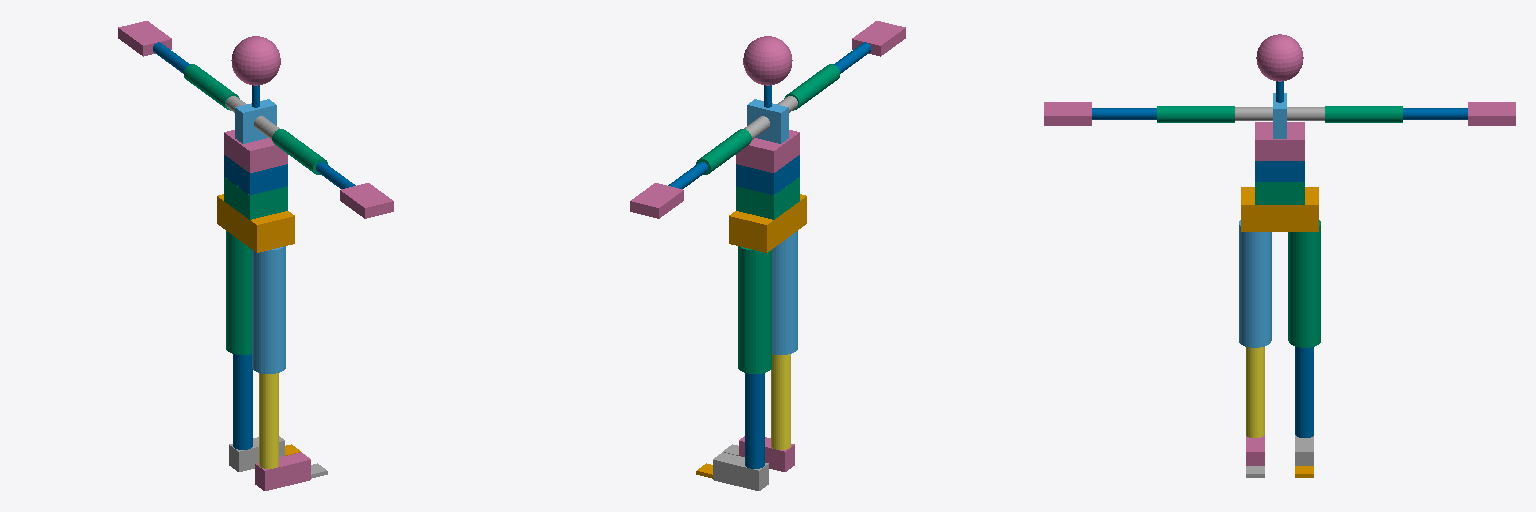
--- Render facts (derived) ---
The picture shows the robot from 3 angles, left to right: view 1: azimuth 30°, elevation 25°; view 2: azimuth 150°, elevation 25°; view 3: azimuth 270°, elevation 25°; orthographic projection.
Model XSensStyleModel_template with 49 links and 48 joints (48 revolute), rooted at Pelvis, posed every joint at zero.
Links seen in each view (by area): view 1: RightUpperLeg, LeftUpperLeg, Pelvis, Head, RightLowerLeg, LeftLowerLeg, T12, L5, RightFoot, L3, RightHand, T8 (+4 smaller); view 2: LeftUpperLeg, RightUpperLeg, Pelvis, Head, LeftLowerLeg, RightLowerLeg, T12, L5, LeftFoot, L3, LeftHand, T8 (+4 smaller); view 3: RightUpperLeg, LeftUpperLeg, Pelvis, Head, T12, RightLowerLeg, LeftLowerLeg, RightUpperArm, LeftUpperArm, RightHand, LeftHand, L5 (+8 smaller).
Link boxes in pixels (x1,y1,x2,y2): RightUpperLeg: (252, 246, 285, 373); LeftUpperLeg: (226, 231, 251, 354); Pelvis: (217, 194, 294, 252); Head: (231, 36, 280, 85); RightLowerLeg: (259, 373, 278, 468); LeftLowerLeg: (233, 354, 252, 449); T12: (224, 130, 287, 172); L5: (224, 177, 287, 219); RightFoot: (255, 452, 310, 490); L3: (224, 155, 287, 194); RightHand: (340, 183, 393, 218); T8: (235, 99, 276, 143); LeftUpperLeg: (738, 246, 771, 373); RightUpperLeg: (772, 231, 797, 354); Pelvis: (729, 194, 806, 252); Head: (743, 36, 792, 85); LeftLowerLeg: (745, 373, 764, 468); RightLowerLeg: (771, 354, 790, 449); T12: (736, 130, 799, 172); L5: (736, 177, 799, 219); LeftFoot: (713, 452, 768, 490); L3: (736, 155, 799, 194); LeftHand: (630, 183, 683, 218); T8: (747, 99, 788, 143); RightUpperLeg: (1239, 220, 1271, 347); LeftUpperLeg: (1288, 220, 1320, 347); Pelvis: (1241, 187, 1318, 231); Head: (1256, 34, 1303, 81); T12: (1255, 122, 1304, 160); RightLowerLeg: (1246, 347, 1264, 437); LeftLowerLeg: (1295, 347, 1313, 437); RightUpperArm: (1157, 106, 1234, 122); LeftUpperArm: (1325, 106, 1402, 122); RightHand: (1044, 102, 1091, 125); LeftHand: (1468, 102, 1515, 125); L5: (1255, 182, 1304, 204).
Bounding box of the posed robot: 0.2981 × 1.7 × 1.67 m (x, y, z).
Geometry: primitives only (box / cylinder / sphere), no mesh files.

URDF robot description (XSensStyleModel_template):
<!--URDF MODEL 48 DoFs-->

<robot name="XSensStyleModel_template">
<!--To open this model with Gazebo replace the null masses, inertias and dimensions of the 'fake links f1 and f2'-->
    <!--LINKS-->
	<!--Link base (1)-->
	<link name="Pelvis">
        <inertial>
            <mass value="4.416"/>
			<!--COM origin wrt pHipOrigin-->
            <origin xyz="0           0    0.054579" rpy="0 0 0" />
            <inertia ixx="0.032646" iyy="0.012663" izz="0.036997" ixy="0" ixz="0" iyz="0"/>
        </inertial>

        <visual>
			<!--box origin wrt pHipOrigin-->
            <origin xyz="0           0    0.054579" rpy="0 0 0" />
            <geometry>
                <box size="0.15204     0.27824     0.10627"/>
            </geometry>
        </visual>

        <collision>
			<!--box origin wrt pHipOrigin-->
            <origin xyz="0           0    0.054579" rpy="0 0 0" />
            <geometry>
                <box size="0.15204     0.27824     0.10627"/>
            </geometry>
        </collision>

    </link>
    <!--Chain from (2) to (7)-->
	<link name="L5_f1">
        <inertial>
            <mass value="0"/>
            <origin xyz="0 0 0" rpy="0 0 0" />
            <inertia ixx="0" iyy="0" izz="0" ixy="0" ixz="0" iyz="0"/>
        </inertial>
    </link>
	<link name="L5">
        <inertial>
            <mass value="5.6304"/>
			<!--COM origin wrt jL5S1-->
            <origin xyz="0           0    0.046545" rpy="0 0 0" />
            <inertia ixx="0.019207" iyy="0.014912" izz="0.025988" ixy="0" ixz="0" iyz="0"/>
        </inertial>

        <visual>
			<!--box origin origin wrt jL5S1-->
            <origin xyz="0           0    0.046545" rpy="0 0 0" />
            <geometry>
                <box size="0.15204     0.17964     0.09309"/>
            </geometry>
        </visual>

        <collision>
			<!--box origin origin wrt jL5S1-->
            <origin xyz="0           0    0.046545" rpy="0 0 0" />
            <geometry>
                <box size="0.15204     0.17964     0.09309"/>
            </geometry>
        </collision>
    </link>
	<link name="L3_f1">
        <inertial>
            <mass value="0"/>
            <origin xyz="0 0 0" rpy="0 0 0" />
            <inertia ixx="0" iyy="0" izz="0" ixy="0" ixz="0" iyz="0"/>
        </inertial>
    </link>
	<link name="L3">
        <inertial>
            <mass value="5.6304"/>
			<!--COM origin wrt jL4L3-->
            <origin xyz="0           0    0.042046" rpy="0 0 0" />
            <inertia ixx="0.018459" iyy="0.014164" izz="0.025988" ixy="0" ixz="0" iyz="0"/>
        </inertial>

        <visual>
			<!--box origin origin wrt jL4L3-->
            <origin xyz="0           0    0.042046" rpy="0 0 0" />
            <geometry>
                <box size="0.15204     0.17964    0.084092"/>
            </geometry>
        </visual>

        <collision>
			<!--box origin origin wrt jL4L3-->
            <origin xyz="0           0    0.042046" rpy="0 0 0" />
            <geometry>
                <box size="0.15204     0.17964    0.084092"/>
            </geometry>
        </collision>
    </link>
	<link name="T12_f1">
        <inertial>
            <mass value="0"/>
            <origin xyz="0 0 0" rpy="0 0 0" />
            <inertia ixx="0" iyy="0" izz="0" ixy="0" ixz="0" iyz="0"/>
        </inertial>
    </link>
	<link name="T12">
        <inertial>
            <mass value="5.6304"/>
			<!--COM origin wrt jL1T12-->
            <origin xyz="0           0    0.042046" rpy="0 0 0" />
            <inertia ixx="0.018459" iyy="0.014164" izz="0.025988" ixy="0" ixz="0" iyz="0"/>
        </inertial>

        <visual>
			<!--box origin origin wrt jL1T12-->
            <origin xyz="0           0    0.042046" rpy="0 0 0" />
            <geometry>
                <box size="0.15204     0.17964    0.084092"/>
            </geometry>
        </visual>

        <collision>
			<!--box origin origin wrt jL1T12-->
            <origin xyz="0           0    0.042046" rpy="0 0 0" />
            <geometry>
                <box size="0.15204     0.17964    0.084092"/>
            </geometry>
        </collision>
    </link>
	<link name="T8_f1">
        <inertial>
            <mass value="0"/>
            <origin xyz="0 0 0" rpy="0 0 0" />
            <inertia ixx="0" iyy="0" izz="0" ixy="0" ixz="0" iyz="0"/>
        </inertial>
    </link>
	<link name="T8_f2">
        <inertial>
            <mass value="0"/>
            <origin xyz="0 0 0" rpy="0 0 0" />
            <inertia ixx="0" iyy="0" izz="0" ixy="0" ixz="0" iyz="0"/>
        </inertial>
    </link>
	<link name="T8">
        <inertial>
            <mass value="2.208"/>
			<!--COM origin wrt jT9T8-->
            <origin xyz="0           0    0.059077" rpy="0 0 0" />
            <inertia ixx="0.0031087" iyy="0.0059088" izz="0.00388" ixy="0" ixz="0" iyz="0"/>
        </inertial>

        <visual>
			<!--box origin wrt jT9T8-->
            <origin xyz="0           0    0.059077" rpy="0 0 0" />
            <geometry>
                <box size="0.13473    0.054172     0.11815"/>
            </geometry>
        </visual>

        <collision>
			<!--box origin wrt jT9T8-->
            <origin xyz="0           0    0.059077" rpy="0 0 0" />
            <geometry>
                <box size="0.13473    0.054172     0.11815"/>
            </geometry>
        </collision>

    </link>
	<link name="Neck_f1">
        <inertial>
            <mass value="0"/>
            <origin xyz="0 0 0" rpy="0 0 0" />
            <inertia ixx="0" iyy="0" izz="0" ixy="0" ixz="0" iyz="0"/>
        </inertial>
    </link>
	<link name="Neck_f2">
        <inertial>
            <mass value="0"/>
            <origin xyz="0 0 0" rpy="0 0 0" />
            <inertia ixx="0" iyy="0" izz="0" ixy="0" ixz="0" iyz="0"/>
        </inertial>
    </link>
	<link name="Neck">
        <inertial>
            <mass value="0.6624"/>
			<!--COM origin wrt jT1C7-->
            <origin xyz="0           0    0.043276" rpy="0 0 0" />
            <inertia ixx="0.00054354" iyy="0.00054354" izz="0.00026007" ixy="0" ixz="0" iyz="0"/>
        </inertial>

        <visual>
			<!--box origin wrt jT1C7-->
            <origin xyz="0           0    0.043276" rpy="0 0 0" />
            <geometry>
		<cylinder length="0.086551" radius="0.014011"/>
            </geometry>
        </visual>

        <collision>
			<!--box origin wrt jT1C7-->
            <origin xyz="0           0    0.043276" rpy="0 0 0" />
            <geometry>
                <cylinder length="0.086551" radius="0.014011"/>
            </geometry>
        </collision>
    </link>
	<link name="Head_f1">
        <inertial>
            <mass value="0"/>
            <origin xyz="0 0 0" rpy="0 0 0" />
            <inertia ixx="0" iyy="0" izz="0" ixy="0" ixz="0" iyz="0"/>
        </inertial>
    </link>
	<link name="Head">
        <inertial>
            <mass value="1.9872"/>
			<!--COM origin wrt jC1Head-->
            <origin xyz="0           0    0.085351" rpy="0 0 0" />
            <inertia ixx="0.0057906" iyy="0.0057906" izz="0.0057906" ixy="0" ixz="0" iyz="0"/>
        </inertial>

        <visual>
			<!--boc origin wrt jC1Head-->
            <origin xyz="0           0    0.085351" rpy="0 0 0" />
            <geometry>
                <sphere radius="0.085351"/>
            </geometry>
        </visual>

        <collision>
			<!--box origin wrt jC1Head-->
            <origin xyz="0           0    0.085351" rpy="0 0 0" />
            <geometry>
                <sphere radius="0.085351"/>
            </geometry>
        </collision>

    </link>
	<!--Chain from (8) to (11)-->
	<link name="RightShoulder">
        <inertial>
            <mass value="1.7112"/>
			<!--COM origin wrt jRightC7Shoulder-->
            <origin xyz="0   -0.068449           0" rpy="0 0 0" />
            <inertia ixx="0.0029297" iyy="0.00051445" izz="0.0029297" ixy="0" ixz="0" iyz="0"/>
        </inertial>

        <visual>
			<!--box origin wrt jRightC7Shoulder. RPY rotated of pi/2.-->
            <origin xyz="0   -0.068449           0" rpy="1.5708 0 0" />
            <geometry>
                <cylinder length="0.1369" radius="0.024521"/>
            </geometry>
        </visual>

        <collision>
			<!--box origin wrt jRightC7Shoulder. RPY rotated of pi/2.-->
            <origin xyz="0   -0.068449           0" rpy="1.5708 0 0" />
            <geometry>
                <cylinder length="0.1369" radius="0.024521"/>
            </geometry>
        </collision>

    </link>
	<link name="RightUpperArm_f1">
        <inertial>
            <mass value="0"/>
            <origin xyz="0 0 0" rpy="0 0 0" />
            <inertia ixx="0" iyy="0" izz="0" ixy="0" ixz="0" iyz="0"/>
        </inertial>
    </link>
	<link name="RightUpperArm_f2">
        <inertial>
            <mass value="0"/>
            <origin xyz="0 0 0" rpy="0 0 0" />
            <inertia ixx="0" iyy="0" izz="0" ixy="0" ixz="0" iyz="0"/>
        </inertial>
    </link>
    <link name="RightUpperArm">
        <inertial>
            <mass value="1.656"/>
			<!--COM origin wrt jRightShoulder-->
            <origin xyz="0    -0.14097           0" rpy="0 0 0" />
            <inertia ixx="0.011359" iyy="0.00077855" izz="0.011359" ixy="0" ixz="0" iyz="0"/>
        </inertial>

        <visual>
			<!--box origin wrt jRightShoulder. RPY rotated of pi/2.-->
            <origin xyz="0    -0.14097           0" rpy="1.5708 0 0" />
            <geometry>
                <cylinder length="0.28194" radius="0.030664"/>
            </geometry>
        </visual>

        <collision>
			<!--box origin wrt jRightShoulder. RPY rotated of pi/2.-->
            <origin xyz="0    -0.14097           0" rpy="1.5708 0 0" />
            <geometry>
                <cylinder length="0.28194" radius="0.030664"/>
            </geometry>
        </collision>

    </link>
	<link name="RightForeArm_f1">
        <inertial>
            <mass value="0"/>
            <origin xyz="0 0 0" rpy="0 0 0" />
            <inertia ixx="0" iyy="0" izz="0" ixy="0" ixz="0" iyz="0"/>
        </inertial>
    </link>
	<link name="RightForeArm">
        <inertial>
            <mass value="1.104"/>
			<!--COM origin wrt jRightElbow-->
            <origin xyz="0    -0.11576           0" rpy="0 0 0" />
            <inertia ixx="0.0050467" iyy="0.00023068" izz="0.0050467" ixy="0" ixz="0" iyz="0"/>
        </inertial>

        <visual>
			<!--box origin wrt jRightElbow. RPY rotated of pi/2.-->
            <origin xyz="0    -0.11576           0" rpy="1.5708 0 0" />
            <geometry>
                <cylinder length="0.23152" radius="0.020443"/>
            </geometry>
        </visual>

        <collision>
			<!--box origin wrt jRightElbow. RPY rotated of pi/2.-->
            <origin xyz="0    -0.11576           0" rpy="1.5708 0 0" />
            <geometry>
                <cylinder length="0.23152" radius="0.020443"/>
            </geometry>
        </collision>

    </link>
	<link name="RightHand_f1">
        <inertial>
            <mass value="0"/>
            <origin xyz="0 0 0" rpy="0 0 0" />
            <inertia ixx="0" iyy="0" izz="0" ixy="0" ixz="0" iyz="0"/>
        </inertial>
    </link>
	<link name="RightHand">
        <inertial>
            <mass value="0.3312"/>
			<!--COM origin wrt jRightWrist-->
            <origin xyz="0   -0.086727           0" rpy="0 0 0" />
            <inertia ixx="0.00087653" iyy="0.0004152" izz="0.0011995" ixy="0" ixz="0" iyz="0"/>
        </inertial>

        <visual>
			<!--box origin wrt jRightWrist-->
            <origin xyz="0   -0.086727           0" rpy="0 0 0" />
            <geometry>
                <box size="0.11564     0.17345    0.040885"/>
            </geometry>
        </visual>

        <collision>
			<!--box origin wrt jRightWrist-->
            <origin xyz="0   -0.086727           0" rpy="0 0 0" />
            <geometry>
                <box size="0.11564     0.17345    0.040885"/>
            </geometry>
        </collision>

    </link>
	<!--Chain from (12) to (15)-->
	<link name="LeftShoulder">
        <inertial>
            <mass value="1.7112"/>
			<!--COM origin wrt jLeftC7Shoulder-->
            <origin xyz="0    0.068449           0" rpy="0 0 0" />
            <inertia ixx="0.0029297" iyy="0.00051445" izz="0.0029297" ixy="0" ixz="0" iyz="0"/>
        </inertial>

        <visual>
			<!--box origin wrt jLeftC7Shoulder. RPY rotated of pi/2.-->
            <origin xyz="0    0.068449           0" rpy="1.5708 0 0" />
            <geometry>
                <cylinder length="0.1369" radius="0.024521"/>
            </geometry>
        </visual>

        <collision>
			<!--box origin wrt jLeftC7Shoulder. RPY rotated of pi/2.-->
            <origin xyz="0    0.068449           0" rpy="1.5708 0 0" />
            <geometry>
                <cylinder length="0.1369" radius="0.024521"/>
            </geometry>
        </collision>

    </link>
	<link name="LeftUpperArm_f1">
        <inertial>
            <mass value="0"/>
            <origin xyz="0 0 0" rpy="0 0 0" />
            <inertia ixx="0" iyy="0" izz="0" ixy="0" ixz="0" iyz="0"/>
        </inertial>
    </link>
	<link name="LeftUpperArm_f2">
        <inertial>
            <mass value="0"/>
            <origin xyz="0 0 0" rpy="0 0 0" />
            <inertia ixx="0" iyy="0" izz="0" ixy="0" ixz="0" iyz="0"/>
        </inertial>
    </link>
	<link name="LeftUpperArm">
        <inertial>
            <mass value="1.656"/>
			<!--COM origin wrt jLeftShoulder-->
            <origin xyz="0     0.14097           0" rpy="0 0 0" />
            <inertia ixx="0.011359" iyy="0.00077855" izz="0.011359" ixy="0" ixz="0" iyz="0"/>
        </inertial>

        <visual>
			<!--box origin wrt jLeftShoulder. RPY rotated of pi/2.-->
            <origin xyz="0     0.14097           0" rpy="1.5708 0 0" />
            <geometry>
                <cylinder length="0.28194" radius="0.030664"/>
            </geometry>
        </visual>

        <collision>
			<!--box origin wrt jLeftShoulder. RPY rotated of pi/2.-->
            <origin xyz="0     0.14097           0" rpy="1.5708 0 0" />
            <geometry>
                <cylinder length="0.28194" radius="0.030664"/>
            </geometry>
        </collision>

    </link>
	<link name="LeftForeArm_f1">
        <inertial>
            <mass value="0"/>
            <origin xyz="0 0 0" rpy="0 0 0" />
            <inertia ixx="0" iyy="0" izz="0" ixy="0" ixz="0" iyz="0"/>
        </inertial>
    </link>
	<link name="LeftForeArm">
        <inertial>
            <mass value="1.104"/>
			<!--COM origin wrt jLeftElbow-->
            <origin xyz="0     0.11576           0" rpy="0 0 0" />
            <inertia ixx="0.0050467" iyy="0.00023068" izz="0.0050467" ixy="0" ixz="0" iyz="0"/>
        </inertial>

        <visual>
			<!--box origin wrt jLeftElbow. RPY rotated of pi/2.-->
            <origin xyz="0     0.11576           0" rpy="1.5708 0 0" />
            <geometry>
                <cylinder length="0.23152" radius="0.020443"/>
            </geometry>
        </visual>

        <collision>
			<!--box origin wrt jLeftElbow. RPY rotated of pi/2.-->
            <origin xyz="0     0.11576           0" rpy="1.5708 0 0" />
            <geometry>
                <cylinder length="0.23152" radius="0.020443"/>
            </geometry>
        </collision>

    </link>
	<link name="LeftHand_f1">
        <inertial>
            <mass value="0"/>
            <origin xyz="0 0 0" rpy="0 0 0" />
            <inertia ixx="0" iyy="0" izz="0" ixy="0" ixz="0" iyz="0"/>
        </inertial>
    </link>
	<link name="LeftHand">
        <inertial>
            <mass value="0.3312"/>
			<!--COM origin wrt jLeftWrist-->
            <origin xyz="0    0.086727           0" rpy="0 0 0" />
            <inertia ixx="0.00087653" iyy="0.0004152" izz="0.0011995" ixy="0" ixz="0" iyz="0"/>
        </inertial>

        <visual>
			<!--COM origin wrt jLeftWrist-->
            <origin xyz="0    0.086727           0" rpy="0 0 0" />
            <geometry>
                <box size="0.11564     0.17345    0.040885"/>
            </geometry>
        </visual>

        <collision>
			<!--COM origin wrt jLeftWrist-->
            <origin xyz="0    0.086727           0" rpy="0 0 0" />
            <geometry>
                <box size="0.11564     0.17345    0.040885"/>
            </geometry>
        </collision>

    </link>
	<!--Chain from (16) to (19)-->
	<link name="RightUpperLeg_f1">
        <inertial>
            <mass value="0"/>
            <origin xyz="0 0 0" rpy="0 0 0" />
            <inertia ixx="0" iyy="0" izz="0" ixy="0" ixz="0" iyz="0"/>
        </inertial>
    </link>
	<link name="RightUpperLeg_f2">
        <inertial>
            <mass value="0"/>
            <origin xyz="0 0 0" rpy="0 0 0" />
            <inertia ixx="0" iyy="0" izz="0" ixy="0" ixz="0" iyz="0"/>
        </inertial>
    </link>
    <link name="RightUpperLeg">
        <inertial>
            <mass value="6.9"/>
			<!--COM origin wrt jRightHip-->
            <origin xyz="0           0    -0.23539" rpy="0 0 0" />
            <inertia ixx="0.13349" iyy="0.13349" izz="0.012102" ixy="0" ixz="0" iyz="0"/>
        </inertial>

        <visual>
			<!--box origin wrt jRightHip-->
            <origin xyz="0           0    -0.23539" rpy="0 0 0" />
            <geometry>
                <cylinder length="0.47078" radius="0.059228"/>
            </geometry>
        </visual>

        <collision>
			<!--box origin wrt jRightHip-->
            <origin xyz="0           0    -0.23539" rpy="0 0 0" />
            <geometry>
                <cylinder length="0.47078" radius="0.059228"/>
            </geometry>
        </collision>

    </link>
	<link name="RightLowerLeg_f1">
        <inertial>
            <mass value="0"/>
            <origin xyz="0 0 0" rpy="0 0 0" />
            <inertia ixx="0" iyy="0" izz="0" ixy="0" ixz="0" iyz="0"/>
        </inertial>
    </link>
    <link name="RightLowerLeg">
        <inertial>
            <mass value="2.0148"/>
			<!--COM origin wrt jRightKnee-->
            <origin xyz="0           0    -0.18629" rpy="0 0 0" />
            <inertia ixx="0.023906" iyy="0.023906" izz="0.0012007" ixy="0" ixz="0" iyz="0"/>
        </inertial>

        <visual>
			<!--box origin wrt jRightKnee-->
            <origin xyz="0           0    -0.18629" rpy="0 0 0" />
            <geometry>
                <cylinder length="0.37257" radius="0.034524"/>
            </geometry>
        </visual>

        <collision>
			<!--box origin wrt jRightKnee-->
            <origin xyz="0           0    -0.18629" rpy="0 0 0" />
            <geometry>
                <cylinder length="0.37257" radius="0.034524"/>
            </geometry>
        </collision>

    </link>
	<link name="RightFoot_f1">
        <inertial>
            <mass value="0"/>
            <origin xyz="0 0 0" rpy="0 0 0" />
            <inertia ixx="0" iyy="0" izz="0" ixy="0" ixz="0" iyz="0"/>
        </inertial>
    </link>
	<link name="RightFoot_f2">
        <inertial>
            <mass value="0"/>
            <origin xyz="0 0 0" rpy="0 0 0" />
            <inertia ixx="0" iyy="0" izz="0" ixy="0" ixz="0" iyz="0"/>
        </inertial>
    </link>
    <link name="RightFoot">
        <inertial>
            <mass value="0.7176"/>
			<!--COM origin wrt jRightAnkle-->
            <origin xyz="0.055949           0   -0.039369" rpy="0 0 0" />
            <inertia ixx="0.00065584" iyy="0.0024234" izz="0.0023377" ixy="0" ixz="0" iyz="0"/>
        </inertial>

        <visual>
			<!--box origin wrt jRightAnkle-->
	    	<origin xyz="0.055949           0   -0.039369" rpy="0 0 0" />
            <geometry>
                <box size="0.18527    0.069048    0.078737"/>
            </geometry>
        </visual>

        <collision>
			<!--box origin wrt jRightAnkle-->
		    <origin xyz="0.055949           0   -0.039369" rpy="0 0 0" />
	            <geometry>
	                <box size="0.18527    0.069048    0.078737"/>
	            </geometry>
        </collision>

    </link>
    <link name="RightToe">
        <inertial>
            <mass value="0.0828"/>
			<!--COM origin wrt jRightBallFoot-->
            <origin xyz="0.032364           0           0" rpy="0 0 0" />
            <inertia ixx="3.4446e-05" iyy="3.046e-05" izz="6.1807e-05" ixy="0" ixz="0" iyz="0"/>
        </inertial>

        <visual>
			<!--box origin wrt jRightBallFoot-->
            <origin xyz="0.032364           0           0" rpy="0 0 0" />
            <geometry>
                <box size="0.064729    0.069048    0.014986"/>
            </geometry>
        </visual>

        <collision>
			<!--box origin wrt jRightBallFoot-->
            <origin xyz="0.032364           0           0" rpy="0 0 0" />
            <geometry>
                <box size="0.064729    0.069048    0.014986"/>
            </geometry>
        </collision>
    </link>
	<!--Chain from (20) to (23)-->
	<link name="LeftUpperLeg_f1">
        <inertial>
            <mass value="0"/>
            <origin xyz="0 0 0" rpy="0 0 0" />
            <inertia ixx="0" iyy="0" izz="0" ixy="0" ixz="0" iyz="0"/>
        </inertial>
    </link>
	<link name="LeftUpperLeg_f2">
        <inertial>
            <mass value="0"/>
            <origin xyz="0 0 0" rpy="0 0 0" />
            <inertia ixx="0" iyy="0" izz="0" ixy="0" ixz="0" iyz="0"/>
        </inertial>
    </link>
    <link name="LeftUpperLeg">
        <inertial>
            <mass value="6.9"/>
			<!--COM origin wrt jLeftHip-->
            <origin xyz="0           0    -0.23539" rpy="0 0 0" />
            <inertia ixx="0.13349" iyy="0.13349" izz="0.012102" ixy="0" ixz="0" iyz="0"/>
        </inertial>

        <visual>
			<!--box origin wrt jLeftHip-->
            <origin xyz="0           0    -0.23539" rpy="0 0 0" />
            <geometry>
                <cylinder length="0.47078" radius="0.059228"/>
            </geometry>
        </visual>

        <collision>
			<!--box origin wrt jLeftHip-->
            <origin xyz="0           0    -0.23539" rpy="0 0 0" />
            <geometry>
                <cylinder length="0.47078" radius="0.059228"/>
            </geometry>
        </collision>

    </link>
	<link name="LeftLowerLeg_f1">
        <inertial>
            <mass value="0"/>
            <origin xyz="0 0 0" rpy="0 0 0" />
            <inertia ixx="0" iyy="0" izz="0" ixy="0" ixz="0" iyz="0"/>
        </inertial>
    </link>
	<link name="LeftLowerLeg">
        <inertial>
            <mass value="2.0148"/>
			<!--COM origin wrt jLeftKnee-->
            <origin xyz="0           0    -0.18629" rpy="0 0 0" />
            <inertia ixx="0.023906" iyy="0.023906" izz="0.0012007" ixy="0" ixz="0" iyz="0"/>
        </inertial>

        <visual>
			<!--box origin wrt jLeftKnee-->
            <origin xyz="0           0    -0.18629" rpy="0 0 0" />
            <geometry>
		<cylinder length="0.37257" radius="0.034524"/>
            </geometry>
        </visual>

        <collision>
			<!--box origin wrt jLeftKnee-->
            <origin xyz="0           0    -0.18629" rpy="0 0 0" />
            <geometry>
		<cylinder length="0.37257" radius="0.034524"/>
            </geometry>
        </collision>

    </link>
	<link name="LeftFoot_f1">
        <inertial>
            <mass value="0"/>
            <origin xyz="0 0 0" rpy="0 0 0" />
            <inertia ixx="0" iyy="0" izz="0" ixy="0" ixz="0" iyz="0"/>
        </inertial>
    </link>
	<link name="LeftFoot_f2">
        <inertial>
            <mass value="0"/>
            <origin xyz="0 0 0" rpy="0 0 0" />
            <inertia ixx="0" iyy="0" izz="0" ixy="0" ixz="0" iyz="0"/>
        </inertial>
    </link>
    <link name="LeftFoot">
        <inertial>
            <mass value="0.7176"/>
			<!--COM origin wrt jLeftAnkle-->
            <origin xyz="0.055949           0   -0.039369" rpy="0 0 0" />
            <inertia ixx="0.00065584" iyy="0.0024234" izz="0.0023377" ixy="0" ixz="0" iyz="0"/>
        </inertial>

        <visual>
			<!--box origin wrt jLeftAnkle-->
	   	 	<origin xyz="0.055949           0   -0.039369" rpy="0 0 0" />
            <geometry>
                <box size="0.18527    0.069048    0.078737"/>
            </geometry>
        </visual>

        <collision>
			<!--box origin wrt jLeftAnkle-->
		    <origin xyz="0.055949           0   -0.039369" rpy="0 0 0" />
	            <geometry>
	                <box size="0.18527    0.069048    0.078737"/>
	            </geometry>
        </collision>

    </link>
	<link name="LeftToe">
        <inertial>
            <mass value="0.0828"/>
			<!--COM origin wrt jLeftBallFoot-->
            <origin xyz="0.032364           0           0" rpy="0 0 0" />
            <inertia ixx="3.4446e-05" iyy="3.046e-05" izz="6.1807e-05" ixy="0" ixz="0" iyz="0"/>
        </inertial>

        <visual>
			<!--box origin wrt jLeftBallFoot-->
            <origin xyz="0.032364           0           0" rpy="0 0 0" />
            <geometry>
                <box size="0.064729    0.069048    0.014986"/>
            </geometry>
        </visual>

        <collision>
			<!--box origin wrt jLeftBallFoot-->
            <origin xyz="0.032364           0           0" rpy="0 0 0" />
            <geometry>
                <box size="0.064729    0.069048    0.014986"/>
            </geometry>
        </collision>
    </link>


	<!--JOINTS-->
	<!--Chain from (2) to (7)-->
	<joint name="jL5S1_rotx" type="revolute">
        <origin xyz="-0.000294           0     0.10772" rpy="0 0 0"/>
        <parent link="Pelvis"/>
        <child link="L5_f1"/>
        <dynamics damping="0.1" friction="0.0"/>
        <limit effort="30" velocity="1.0" lower="-0.610865" upper="0.610865" />
        <axis xyz="1 0 0" />
    </joint>
	<joint name="jL5S1_roty" type="revolute">
        <origin xyz="0 0 0" rpy="0 0 0"/>
        <parent link="L5_f1"/>
        <child link="L5"/>
        <dynamics damping="0.1" friction="0.0"/>
        <limit effort="30" velocity="1.0" lower="-0.523599" upper="1.309" />
        <axis xyz="0 1 0" />
    </joint>
	<joint name="jL4L3_rotx" type="revolute">
        <origin xyz="0.000535           0     0.09309" rpy="0 0 0"/>
        <parent link="L5"/>
        <child link="L3_f1"/>
        <dynamics damping="0.1" friction="0.0"/>
        <limit effort="30" velocity="1.0" lower="-0.610865" upper="0.610865" />
        <axis xyz="1 0 0" />
    </joint>
	<joint name="jL4L3_roty" type="revolute">
        <origin xyz="0 0 0" rpy="0 0 0"/>
        <parent link="L3_f1"/>
        <child link="L3"/>
        <dynamics damping="0.1" friction="0.0"/>
        <limit effort="30" velocity="1.0" lower="-0.523599" upper="1.309" />
        <axis xyz="0 1 0" />
    </joint>
	<joint name="jL1T12_rotx" type="revolute">
        <origin xyz="0           0    0.084092" rpy="0 0 0"/>
        <parent link="L3"/>
        <child link="T12_f1"/>
        <dynamics damping="0.1" friction="0.0"/>
        <limit effort="30" velocity="1.0" lower="-0.610865" upper="0.610865" />
        <axis xyz="1 0 0" />
    </joint>
	<joint name="jL1T12_roty" type="revolute">
        <origin xyz="0 0 0" rpy="0 0 0"/>
        <parent link="T12_f1"/>
        <child link="T12"/>
        <dynamics damping="0.1" friction="0.0"/>
        <limit effort="30" velocity="1.0" lower="-0.523599" upper="1.309" />
        <axis xyz="0 1 0" />
    </joint>
	<joint name="jT9T8_rotx" type="revolute">
        <origin xyz="0           0    0.084092" rpy="0 0 0"/>
        <parent link="T12"/>
        <child link="T8_f1"/>
        <dynamics damping="0.1" friction="0.0"/>
        <limit effort="30" velocity="1.0" lower="-0.349066" upper="0.349066" />
        <axis xyz="1 0 0" />
    </joint>
	<joint name="jT9T8_roty" type="revolute">
        <origin xyz="0 0 0" rpy="0 0 0"/>
        <parent link="T8_f1"/>
        <child link="T8_f2"/>
        <dynamics damping="0.1" friction="0.0"/>
        <limit effort="30" velocity="1.0" lower="-0.261799" upper="0.698132" />
        <axis xyz="0 1 0" />
    </joint>
    <joint name="jT9T8_rotz" type="revolute">
        <origin xyz="0 0 0" rpy="0 0 0"/>
        <parent link="T8_f2"/>
        <child link="T8"/>
        <dynamics damping="0.1" friction="0.0"/>
        <limit effort="30" velocity="1.0" lower="-0.610865" upper="0.610865" />
        <axis xyz="0 0 1" />
    </joint>
	<joint name="jT1C7_rotx" type="revolute">
        <origin xyz="0           0     0.11815" rpy="0 0 0"/>
        <parent link="T8"/>
        <child link="Neck_f1"/>
        <dynamics damping="0.1" friction="0.0"/>
        <limit effort="30" velocity="1.0" lower="-0.610865" upper="0.610865" />
        <axis xyz="1 0 0" />
    </joint>
	<joint name="jT1C7_roty" type="revolute">
        <origin xyz="0 0 0" rpy="0 0 0"/>
        <parent link="Neck_f1"/>
        <child link="Neck_f2"/>
        <dynamics damping="0.1" friction="0.0"/>
        <limit effort="30" velocity="1.0" lower="-0.959931" upper="1.5708" />
        <axis xyz="0 1 0" />
    </joint>
    <joint name="jT1C7_rotz" type="revolute">
        <origin xyz="0 0 0" rpy="0 0 0"/>
        <parent link="Neck_f2"/>
        <child link="Neck"/>
        <dynamics damping="0.1" friction="0.0"/>
        <limit effort="30" velocity="1.0" lower="-1.22173" upper="1.22173" />
        <axis xyz="0 0 1" />
    </joint>
	<joint name="jC1Head_rotx" type="revolute">
        <origin xyz="0.00062           0    0.086551" rpy="0 0 0"/>
        <parent link="Neck"/>
        <child link="Head_f1"/>
        <dynamics damping="0.1" friction="0.0"/>
        <limit effort="30" velocity="1.0" lower="-0.610865" upper="0.610865" />
        <axis xyz="1 0 0" />
    </joint>
	<joint name="jC1Head_roty" type="revolute">
        <origin xyz="0 0 0" rpy="0 0 0"/>
        <parent link="Head_f1"/>
        <child link="Head"/>
        <dynamics damping="0.1" friction="0.0"/>
        <limit effort="30" velocity="1.0" lower="-0.436332" upper="0.174533" />
        <axis xyz="0 1 0" />
    </joint>
	<!--Chain from (8) to (11)-->
	<joint name="jRightC7Shoulder_rotx" type="revolute">
        <origin xyz="0   -0.027086    0.066263" rpy="0 0 0"/>
        <parent link="T8"/>
        <child link="RightShoulder"/>
        <dynamics damping="0.1" friction="0.0"/>
        <limit effort="30" velocity="1.0" lower="-0.0872665" upper="0.785398" />
        <axis xyz="1 0 0" />
    </joint>
	<joint name="jRightShoulder_rotx" type="revolute">
        <origin xyz="0     -0.1369           0" rpy="0 0 0"/>
        <parent link="RightShoulder"/>
        <child link="RightUpperArm_f1"/>
        <dynamics damping="0.1" friction="0.0"/>
        <limit effort="30" velocity="1.0" lower="-2.35619" upper="1.5708" />
        <axis xyz="1 0 0" />
    </joint>
	<joint name="jRightShoulder_roty" type="revolute">
        <origin xyz="0 0 0" rpy="0 0 0"/>
        <parent link="RightUpperArm_f1"/>
        <child link="RightUpperArm_f2"/>
        <dynamics damping="0.1" friction="0.0"/>
        <limit effort="30" velocity="1.0" lower="-1.5708" upper="1.5708" />
        <axis xyz="0 1 0" />
    </joint>
    <joint name="jRightShoulder_rotz" type="revolute">
        <origin xyz="0 0 0" rpy="0 0 0"/>
        <parent link="RightUpperArm_f2"/>
        <child link="RightUpperArm"/>
        <dynamics damping="0.1" friction="0.0"/>
        <limit effort="30" velocity="1.0" lower="-0.785398" upper="3.14159" />
        <axis xyz="0 0 1" />
    </joint>
	<joint name="jRightElbow_roty" type="revolute">
        <origin xyz="0    -0.28194           0" rpy="0 0 0"/>
        <parent link="RightUpperArm"/>
        <child link="RightForeArm_f1"/>
        <dynamics damping="0.1" friction="0.0"/>
        <limit effort="30" velocity="1.0" lower="-1.5708" upper="1.48353" />
        <axis xyz="0 1 0" />
    </joint>
	<joint name="jRightElbow_rotz" type="revolute">
        <origin xyz="0 0 0" rpy="0 0 0"/>
        <parent link="RightForeArm_f1"/>
        <child link="RightForeArm"/>
        <dynamics damping="0.1" friction="0.0"/>
        <limit effort="30" velocity="1.0" lower="0" upper="2.53073" />
        <axis xyz="0 0 1" />
    </joint>
	<joint name="jRightWrist_rotx" type="revolute">
        <origin xyz="4.6e-05    -0.23152           0" rpy="0 0 0"/>
        <parent link="RightForeArm"/>
        <child link="RightHand_f1"/>
        <dynamics damping="0.1" friction="0.0"/>
        <limit effort="30" velocity="1.0" lower="-0.872665" upper="1.0472" />
        <axis xyz="1 0 0" />
    </joint>
	<joint name="jRightWrist_rotz" type="revolute">
        <origin xyz="0 0 0" rpy="0 0 0"/>
        <parent link="RightHand_f1"/>
        <child link="RightHand"/>
        <dynamics damping="0.1" friction="0.0"/>
        <limit effort="30" velocity="1.0" lower="-0.523599" upper="0.349066" />
        <axis xyz="0 0 1" />
    </joint>
	<!--Chain from (12) to (15)-->
	<joint name="jLeftC7Shoulder_rotx" type="revolute">
        <origin xyz="0    0.027086    0.066263" rpy="0 0 0"/>
        <parent link="T8"/>
        <child link="LeftShoulder"/>
        <dynamics damping="0.1" friction="0.0"/>
        <limit effort="30" velocity="1.0" lower="-0.0872665" upper="0.785398" />
        <axis xyz="1 0 0" />
    </joint>
	<joint name="jLeftShoulder_rotx" type="revolute">
        <origin xyz="0      0.1369           0" rpy="0 0 0"/>
        <parent link="LeftShoulder"/>
        <child link="LeftUpperArm_f1"/>
        <dynamics damping="0.1" friction="0.0"/>
        <limit effort="30" velocity="1.0" lower="-1.5708" upper="2.35619" />
        <axis xyz="1 0 0" />
    </joint>
	<joint name="jLeftShoulder_roty" type="revolute">
        <origin xyz="0 0 0" rpy="0 0 0"/>
        <parent link="LeftUpperArm_f1"/>
        <child link="LeftUpperArm_f2"/>
        <dynamics damping="0.1" friction="0.0"/>
        <limit effort="30" velocity="1.0" lower="-1.5708" upper="1.5708" />
        <axis xyz="0 1 0" />
    </joint>
    <joint name="jLeftShoulder_rotz" type="revolute">
        <origin xyz="0 0 0" rpy="0 0 0"/>
        <parent link="LeftUpperArm_f2"/>
        <child link="LeftUpperArm"/>
        <dynamics damping="0.1" friction="0.0"/>
        <limit effort="30" velocity="1.0" lower="-3.14159" upper="0.785398" />
        <axis xyz="0 0 1" />
    </joint>
    <joint name="jLeftElbow_roty" type="revolute">
        <origin xyz="0     0.28194           0" rpy="0 0 0"/>
        <parent link="LeftUpperArm"/>
        <child link="LeftForeArm_f1"/>
        <dynamics damping="0.1" friction="0.0"/>
        <limit effort="30" velocity="1.0" lower="-1.5708" upper="1.48353" />
        <axis xyz="0 1 0" />
    </joint>
    <joint name="jLeftElbow_rotz" type="revolute">
        <origin xyz="0 0 0" rpy="0 0 0"/>
        <parent link="LeftForeArm_f1"/>
        <child link="LeftForeArm"/>
        <dynamics damping="0.1" friction="0.0"/>
        <limit effort="30" velocity="1.0" lower="-2.53073" upper="0" />
        <axis xyz="0 0 1" />
    </joint>
	<joint name="jLeftWrist_rotx" type="revolute">
        <origin xyz="4.6e-05     0.23152           0" rpy="0 0 0"/>
        <parent link="LeftForeArm"/>
        <child link="LeftHand_f1"/>
        <dynamics damping="0.1" friction="0.0"/>
        <limit effort="30" velocity="1.0" lower="-1.0472" upper="0.872665" />
        <axis xyz="1 0 0" />
    </joint>
	<joint name="jLeftWrist_rotz" type="revolute">
        <origin xyz="0 0 0" rpy="0 0 0"/>
        <parent link="LeftHand_f1"/>
        <child link="LeftHand"/>
        <dynamics damping="0.1" friction="0.0"/>
        <limit effort="30" velocity="1.0" lower="-0.349066" upper="0.523599" />
        <axis xyz="0 0 1" />
    </joint>
	<!--Chain from (16) to (19)-->
	<joint name="jRightHip_rotx" type="revolute">
        <origin xyz="0.000147    -0.08982    0.001442" rpy="0 0 0"/>
        <parent link="Pelvis"/>
        <child link="RightUpperLeg_f1"/>
        <dynamics damping="0.1" friction="0.0"/>
        <limit effort="30" velocity="1.0" lower="-0.523599" upper="0.785398" />
        <axis xyz="1 0 0" />
    </joint>
	<joint name="jRightHip_roty" type="revolute">
        <origin xyz="0 0 0" rpy="0 0 0"/>
        <parent link="RightUpperLeg_f1"/>
        <child link="RightUpperLeg_f2"/>
        <dynamics damping="0.1" friction="0.0"/>
        <limit effort="30" velocity="1.0" lower="-0.261799" upper="2.0944" />
        <axis xyz="0 1 0" />
    </joint>
    <joint name="jRightHip_rotz" type="revolute">
        <origin xyz="0 0 0" rpy="0 0 0"/>
        <parent link="RightUpperLeg_f2"/>
        <child link="RightUpperLeg"/>
        <dynamics damping="0.1" friction="0.0"/>
        <limit effort="30" velocity="1.0" lower="-0.785398" upper="0.785398" />
        <axis xyz="0 0 1" />
    </joint>
	<joint name="jRightKnee_roty" type="revolute">
        <origin xyz="4.4e-05           0    -0.47078" rpy="0 0 0"/>
        <parent link="RightUpperLeg"/>
        <child link="RightLowerLeg_f1"/>
        <dynamics damping="0.1" friction="0.0"/>
        <limit effort="30" velocity="1.0" lower="0" upper="2.35619" />
        <axis xyz="0 1 0" />
    </joint>
	<joint name="jRightKnee_rotz" type="revolute">
        <origin xyz="0 0 0" rpy="0 0 0"/>
        <parent link="RightLowerLeg_f1"/>
        <child link="RightLowerLeg"/>
        <dynamics damping="0.1" friction="0.0"/>
        <limit effort="30" velocity="1.0" lower="-0.698132" upper="0.523599" />
        <axis xyz="0 0 1" />
    </joint>
	<joint name="jRightAnkle_rotx" type="revolute">
        <origin xyz="0.000156           0    -0.37257" rpy="0 0 0"/>
        <parent link="RightLowerLeg"/>
        <child link="RightFoot_f1"/>
        <dynamics damping="0.1" friction="0.0"/>
        <limit effort="30" velocity="1.0" lower="-0.610865" upper="0.785398" />
        <axis xyz="1 0 0" />
    </joint>
	<joint name="jRightAnkle_roty" type="revolute">
        <origin xyz="0 0 0" rpy="0 0 0"/>
        <parent link="RightFoot_f1"/>
        <child link="RightFoot_f2"/>
        <dynamics damping="0.1" friction="0.0"/>
        <limit effort="30" velocity="1.0" lower="-0.523599" upper="0.872665" />
        <axis xyz="0 1 0" />
    </joint>
    <joint name="jRightAnkle_rotz" type="revolute">
        <origin xyz="0 0 0" rpy="0 0 0"/>
        <parent link="RightFoot_f2"/>
        <child link="RightFoot"/>
        <dynamics damping="0.1" friction="0.0"/>
        <limit effort="30" velocity="1.0" lower="-0.436332" upper="0.872665" />
        <axis xyz="0 0 1" />
    </joint>
	<joint name="jRightBallFoot_roty" type="revolute">
        <origin xyz="0.14858           0   -0.065066" rpy="0 0 0"/>
        <parent link="RightFoot"/>
        <child link="RightToe"/>
        <dynamics damping="0.1" friction="0.0"/>
        <limit effort="30" velocity="1.0" lower="-0.174533" upper="1.5708" />
        <axis xyz="0 1 0" />
    </joint>
	<!--Chain from (20) to (23)-->
	<joint name="jLeftHip_rotx" type="revolute">
        <origin xyz="0.000147     0.08982    0.001442" rpy="0 0 0"/>
        <parent link="Pelvis"/>
        <child link="LeftUpperLeg_f1"/>
        <dynamics damping="0.1" friction="0.0"/>
        <limit effort="30" velocity="1.0" lower="-0.523599" upper="0.785398" />
        <axis xyz="1 0 0" />
    </joint>
	<joint name="jLeftHip_roty" type="revolute">
        <origin xyz="0 0 0" rpy="0 0 0"/>
        <parent link="LeftUpperLeg_f1"/>
        <child link="LeftUpperLeg_f2"/>
        <dynamics damping="0.1" friction="0.0"/>
        <limit effort="30" velocity="1.0" lower="-0.261799" upper="2.0944" />
        <axis xyz="0 1 0" />
    </joint>
    <joint name="jLeftHip_rotz" type="revolute">
        <origin xyz="0 0 0" rpy="0 0 0"/>
        <parent link="LeftUpperLeg_f2"/>
        <child link="LeftUpperLeg"/>
        <dynamics damping="0.1" friction="0.0"/>
        <limit effort="30" velocity="1.0" lower="-0.785398" upper="0.785398" />
        <axis xyz="0 0 1" />
    </joint>
	<joint name="jLeftKnee_roty" type="revolute">
        <origin xyz="4.4e-05           0    -0.47078" rpy="0 0 0"/>
        <parent link="LeftUpperLeg"/>
        <child link="LeftLowerLeg_f1"/>
        <dynamics damping="0.1" friction="0.0"/>
        <limit effort="30" velocity="1.0" lower="0" upper="2.35619" />
        <axis xyz="0 1 0" />
    </joint>
    <joint name="jLeftKnee_rotz" type="revolute">
        <origin xyz="0 0 0" rpy="0 0 0"/>
        <parent link="LeftLowerLeg_f1"/>
        <child link="LeftLowerLeg"/>
        <dynamics damping="0.1" friction="0.0"/>
        <limit effort="30" velocity="1.0" lower="-0.523599" upper="0.698132" />
        <axis xyz="0 0 1" />
    </joint>
	<joint name="jLeftAnkle_rotx" type="revolute">
        <origin xyz="0.000156           0    -0.37257" rpy="0 0 0"/>
        <parent link="LeftLowerLeg"/>
        <child link="LeftFoot_f1"/>
        <dynamics damping="0.1" friction="0.0"/>
        <limit effort="30" velocity="1.0" lower="-0.610865" upper="0.785398" />
        <axis xyz="1 0 0" />
    </joint>
	<joint name="jLeftAnkle_roty" type="revolute">
        <origin xyz="0 0 0" rpy="0 0 0"/>
        <parent link="LeftFoot_f1"/>
        <child link="LeftFoot_f2"/>
        <dynamics damping="0.1" friction="0.0"/>
        <limit effort="30" velocity="1.0" lower="-0.523599" upper="0.872665" />
        <axis xyz="0 1 0" />
    </joint>
    <joint name="jLeftAnkle_rotz" type="revolute">
        <origin xyz="0 0 0" rpy="0 0 0"/>
        <parent link="LeftFoot_f2"/>
        <child link="LeftFoot"/>
        <dynamics damping="0.1" friction="0.0"/>
        <limit effort="30" velocity="1.0" lower="-0.872665" upper="0.436332" />
        <axis xyz="0 0 1" />
    </joint>
	<joint name="jLeftBallFoot_roty" type="revolute">
        <origin xyz="0.14858           0   -0.065066" rpy="0 0 0"/>
        <parent link="LeftFoot"/>
        <child link="LeftToe"/>
        <dynamics damping="0.1" friction="0.0"/>
        <limit effort="30" velocity="1.0" lower="-0.174533" upper="1.5708" />
        <axis xyz="0 1 0" />
    </joint>

	<!-- Sensor  1-->
<sensor name="Pelvis_gyro" type="gyroscope">
<parent link="Pelvis"/>
<origin xyz="-0.062502 -2.1605e-05     0.10679" rpy="0.073038       1.175     -2.9918"/>
</sensor>
<sensor name="Pelvis_accelerometer" type="accelerometer">
<parent link="Pelvis"/>
<origin xyz="-0.062502 -2.1605e-05     0.10679" rpy="0.073038       1.175     -2.9918"/>
</sensor>
<!-- Sensor  2-->
<sensor name="T8_gyro" type="gyroscope">
<parent link="T8"/>
<origin xyz="0.12575 -1.7171e-07    0.069162" rpy="0.05586      1.1455   -0.093381"/>
</sensor>
<sensor name="T8_accelerometer" type="accelerometer">
<parent link="T8"/>
<origin xyz="0.12575 -1.7171e-07    0.069162" rpy="0.05586      1.1455   -0.093381"/>
</sensor>
<!-- Sensor  3-->
<sensor name="Head_gyro" type="gyroscope">
<parent link="Head"/>
<origin xyz="-0.067666 -2.0687e-07    0.074377" rpy="2.0295     0.15178     -1.3955"/>
</sensor>
<sensor name="Head_accelerometer" type="accelerometer">
<parent link="Head"/>
<origin xyz="-0.067666 -2.0687e-07    0.074377" rpy="2.0295     0.15178     -1.3955"/>
</sensor>
<!-- Sensor  4-->
<sensor name="RightShoulder_gyro" type="gyroscope">
<parent link="RightShoulder"/>
<origin xyz="-0.019617   -0.049042    -0.05885" rpy="1.2165    -0.29762     -1.4934"/>
</sensor>
<sensor name="RightShoulder_accelerometer" type="accelerometer">
<parent link="RightShoulder"/>
<origin xyz="-0.019617   -0.049042    -0.05885" rpy="1.2165    -0.29762     -1.4934"/>
</sensor>
<!-- Sensor  5-->
<sensor name="RightUpperArm_gyro" type="gyroscope">
<parent link="RightUpperArm"/>
<origin xyz="-0.01887   -0.094352     0.01887" rpy="0.034231   -0.080938     -1.6293"/>
</sensor>
<sensor name="RightUpperArm_accelerometer" type="accelerometer">
<parent link="RightUpperArm"/>
<origin xyz="-0.01887   -0.094352     0.01887" rpy="0.034231   -0.080938     -1.6293"/>
</sensor>
<!-- Sensor  6-->
<sensor name="RightForeArm_gyro" type="gyroscope">
<parent link="RightForeArm"/>
<origin xyz="0.0017409    -0.18998    0.018975" rpy="-0.64557   -0.032803     -1.2886"/>
</sensor>
<sensor name="RightForeArm_accelerometer" type="accelerometer">
<parent link="RightForeArm"/>
<origin xyz="0.0017409    -0.18998    0.018975" rpy="-0.64557   -0.032803     -1.2886"/>
</sensor>
<!-- Sensor  7-->
<sensor name="RightHand_gyro" type="gyroscope">
<parent link="RightHand"/>
<origin xyz="-3.6244e-08   -0.052468    0.019079" rpy="-0.44135   -0.084915     -1.4651"/>
</sensor>
<sensor name="RightHand_accelerometer" type="accelerometer">
<parent link="RightHand"/>
<origin xyz="-3.6244e-08   -0.052468    0.019079" rpy="-0.44135   -0.084915     -1.4651"/>
</sensor>
<!-- Sensor  8-->
<sensor name="LeftShoulder_gyro" type="gyroscope">
<parent link="LeftShoulder"/>
<origin xyz="-0.019617    0.049042    -0.05885" rpy="-1.1685    -0.30254      1.3128"/>
</sensor>
<sensor name="LeftShoulder_accelerometer" type="accelerometer">
<parent link="LeftShoulder"/>
<origin xyz="-0.019617    0.049042    -0.05885" rpy="-1.1685    -0.30254      1.3128"/>
</sensor>
<!-- Sensor  9-->
<sensor name="LeftUpperArm_gyro" type="gyroscope">
<parent link="LeftUpperArm"/>
<origin xyz="-0.01887    0.094352     0.01887" rpy="-0.21253      -0.119      1.5758"/>
</sensor>
<sensor name="LeftUpperArm_accelerometer" type="accelerometer">
<parent link="LeftUpperArm"/>
<origin xyz="-0.01887    0.094352     0.01887" rpy="-0.21253      -0.119      1.5758"/>
</sensor>
<!-- Sensor  10-->
<sensor name="LeftForeArm_gyro" type="gyroscope">
<parent link="LeftForeArm"/>
<origin xyz="0.001741     0.18998    0.018975" rpy="0.88559   -0.052367      1.2958"/>
</sensor>
<sensor name="LeftForeArm_accelerometer" type="accelerometer">
<parent link="LeftForeArm"/>
<origin xyz="0.001741     0.18998    0.018975" rpy="0.88559   -0.052367      1.2958"/>
</sensor>
<!-- Sensor  11-->
<sensor name="LeftHand_gyro" type="gyroscope">
<parent link="LeftHand"/>
<origin xyz="-2.9489e-08    0.052468    0.019079" rpy="0.63592      0.1106      1.2877"/>
</sensor>
<sensor name="LeftHand_accelerometer" type="accelerometer">
<parent link="LeftHand"/>
<origin xyz="-2.9489e-08    0.052468    0.019079" rpy="0.63592      0.1106      1.2877"/>
</sensor>
<!-- Sensor  12-->
<sensor name="RightUpperLeg_gyro" type="gyroscope">
<parent link="RightUpperLeg"/>
<origin xyz="0.013598   -0.047873    -0.28284" rpy="-2.7346      1.4828      1.7867"/>
</sensor>
<sensor name="RightUpperLeg_accelerometer" type="accelerometer">
<parent link="RightUpperLeg"/>
<origin xyz="0.013598   -0.047873    -0.28284" rpy="-2.7346      1.4828      1.7867"/>
</sensor>
<!-- Sensor  13-->
<sensor name="RightLowerLeg_gyro" type="gyroscope">
<parent link="RightLowerLeg"/>
<origin xyz="0.028446   0.0065111    -0.12238" rpy="-0.72219      1.5504     -1.0017"/>
</sensor>
<sensor name="RightLowerLeg_accelerometer" type="accelerometer">
<parent link="RightLowerLeg"/>
<origin xyz="0.028446   0.0065111    -0.12238" rpy="-0.72219      1.5504     -1.0017"/>
</sensor>
<!-- Sensor  14-->
<sensor name="RightFoot_gyro" type="gyroscope">
<parent link="RightFoot"/>
<origin xyz="0.085688    0.001426   -0.012097" rpy="0.29509     0.47835    -0.44578"/>
</sensor>
<sensor name="RightFoot_accelerometer" type="accelerometer">
<parent link="RightFoot"/>
<origin xyz="0.085688    0.001426   -0.012097" rpy="0.29509     0.47835    -0.44578"/>
</sensor>
<!-- Sensor  15-->
<sensor name="LeftUpperLeg_gyro" type="gyroscope">
<parent link="LeftUpperLeg"/>
<origin xyz="0.013598    0.047874    -0.28284" rpy="2.2144      1.3513     -2.7095"/>
</sensor>
<sensor name="LeftUpperLeg_accelerometer" type="accelerometer">
<parent link="LeftUpperLeg"/>
<origin xyz="0.013598    0.047874    -0.28284" rpy="2.2144      1.3513     -2.7095"/>
</sensor>
<!-- Sensor  16-->
<sensor name="LeftLowerLeg_gyro" type="gyroscope">
<parent link="LeftLowerLeg"/>
<origin xyz="0.028446  -0.0065112    -0.12238" rpy="2.015      1.4009      2.2161"/>
</sensor>
<sensor name="LeftLowerLeg_accelerometer" type="accelerometer">
<parent link="LeftLowerLeg"/>
<origin xyz="0.028446  -0.0065112    -0.12238" rpy="2.015      1.4009      2.2161"/>
</sensor>
<!-- Sensor  17-->
<sensor name="LeftFoot_gyro" type="gyroscope">
<parent link="LeftFoot"/>
<origin xyz="0.085688   -0.001426   -0.012097" rpy="0.12832     0.56786     0.95218"/>
</sensor>
<sensor name="LeftFoot_accelerometer" type="accelerometer">
<parent link="LeftFoot"/>
<origin xyz="0.085688   -0.001426   -0.012097" rpy="0.12832     0.56786     0.95218"/>
</sensor>


</robot>
